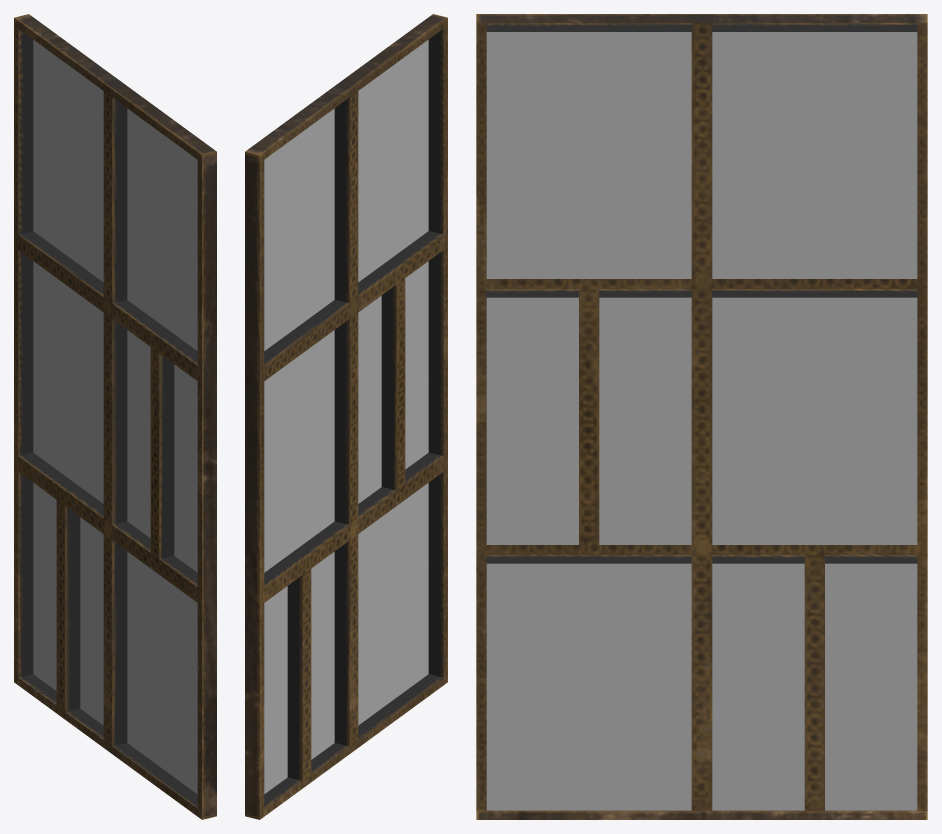
File: SM_WindowFrame.fbx
3 views of the same model, side by side, from view 1: azimuth 30°, elevation 25°; view 2: azimuth 150°, elevation 25°; view 3: azimuth 270°, elevation 25° (orthographic). The views are drawn at different scales.
Visible parts, largest first — view 1: SM_WindowFrame_LOD0; view 2: SM_WindowFrame_LOD0; view 3: SM_WindowFrame_LOD0.
Part boxes in pixels (x1=…): SM_WindowFrame_LOD0: x1=14, y1=14, x2=216, y2=819; SM_WindowFrame_LOD0: x1=245, y1=14, x2=447, y2=819; SM_WindowFrame_LOD0: x1=476, y1=14, x2=927, y2=819.
Size of the model in its own units: 6 by 132 by 257.
Materials: 2 (1 with a texture image).
